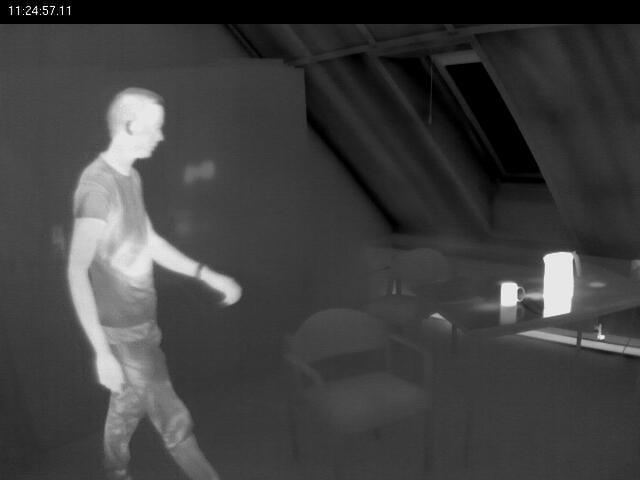person: (62, 77, 248, 478)
